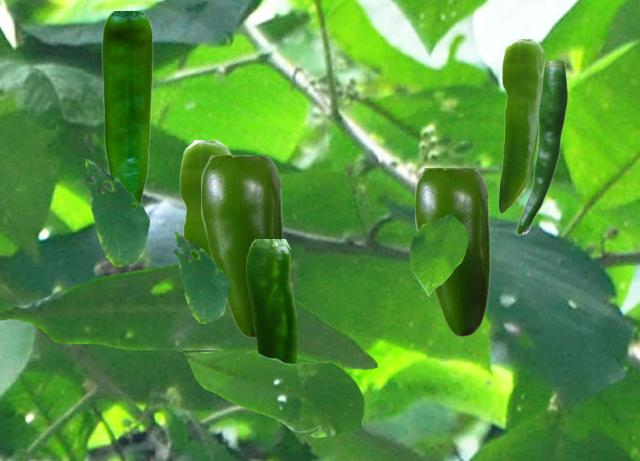green_chili: (201, 155, 282, 337), (415, 168, 489, 336), (101, 11, 152, 207), (515, 61, 566, 234), (498, 39, 546, 212), (179, 140, 232, 257), (246, 239, 295, 362)
